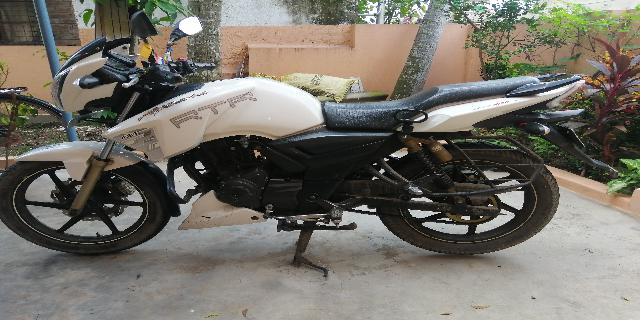Motorbike: (4, 17, 585, 264)
